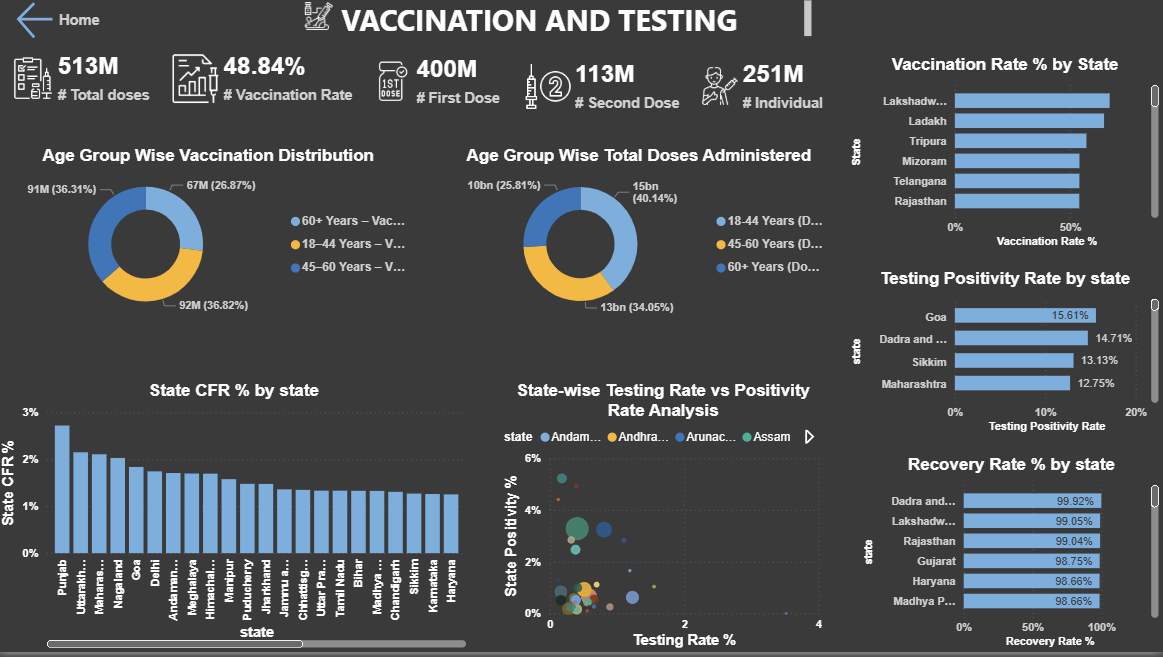

Layout of this report page (visuals, bound fields, positions):
{"tool":"powerbi","page":{"name":"VACCINATION AND TESTING","canvas":[1280,720],"ordinal":1},"visuals":[{"type":"cardVisual","fields":{"Data":["VaccineData.Second Dose"]},"box":[562.6,57.6,208.6,83.7],"z":0},{"type":"cardVisual","fields":{"Data":["VaccineData.Individuals Vaccinated"]},"box":[756.1,64.5,177,70],"z":1000},{"type":"cardVisual","fields":{"Data":["VaccineData.Vaccination Rate %"]},"box":[174.3,43.9,252.5,93.3],"z":2000},{"type":"cardVisual","fields":{"Data":["VaccineData.First Dose"]},"box":[396.6,53.5,181.1,81],"z":3000},{"type":"cardVisual","fields":{"Data":["VaccineData.Total Doses"]},"box":[0,52.1,190.7,76.8],"z":4000},{"type":"textbox","box":[300.5,0,598.3,50.8],"z":5000},{"type":"clusteredBarChart","fields":{"Category":["VaccineData.State"],"Y":["VaccineData.Vaccination Rate %"]},"box":[933.1,64.5,347.2,216.8],"z":6000},{"type":"clusteredBarChart","fields":{"Category":["SummaryData.state"],"Y":["SummaryData.Testing_Positivity_Rate %"]},"box":[933.1,299.1,347.2,185.2],"z":7000},{"type":"clusteredBarChart","fields":{"Category":["SummaryData.state"],"Y":["SummaryData.Recovery Rate %"]},"box":[946.8,503.6,333.4,216.8],"z":8000},{"type":"donutChart","title":"Age Group Wise Vaccination Distribution","fields":{"Y":["Max(VaccineData.60+ Years(Individuals Vaccinated))","Max(VaccineData.18-44 Years(Individuals Vaccinated))","Max(VaccineData.45-60 Years(Individuals Vaccinated))"]},"box":[0,164.7,463.8,194.9],"z":9000},{"type":"scatterChart","title":"State-wise Testing Rate vs Positivity Rate Analysis","fields":{"Series":["SummaryData.state"],"Size":["Sum(SummaryData.confirmed)"],"X":["SummaryData.Testing Rate %"],"Y":["SummaryData.State Positivity %"]},"box":[551.6,422.6,359.5,297.8],"z":10000},{"type":"actionButton","title":"Home","box":[0,1.4,133.1,50.8],"z":11000},{"type":"clusteredColumnChart","fields":{"Category":["SummaryData.state"],"Y":["SummaryData.State CFR %"]},"box":[0,422.6,520.1,297.8],"z":12000},{"type":"donutChart","title":"Age Group Wise Total Doses Administered","fields":{"Y":["Sum(VaccineData.18-44 Years (Doses Administered))","Sum(VaccineData.45-60 Years (Doses Administered))","Sum(VaccineData.60+ Years (Doses Administered))"]},"box":[487.1,164.7,435,194.9],"z":13000},{"type":"image","box":[332.1,0,42.5,43.9],"z":13001}]}

Visuals, with their boxes in screenshot pixels (x1, y1, x2, y2), scaled from the page's 1280x720 canvas onto the 1163x657 screenshot:
cardVisual - VaccineData.Second Dose: [511, 53, 701, 129]
cardVisual - VaccineData.Individuals Vaccinated: [687, 59, 848, 123]
cardVisual - VaccineData.Vaccination Rate %: [158, 40, 388, 125]
cardVisual - VaccineData.First Dose: [360, 49, 525, 123]
cardVisual - VaccineData.Total Doses: [0, 48, 173, 118]
textbox: [273, 0, 817, 46]
clusteredBarChart - VaccineData.State x VaccineData.Vaccination Rate %: [848, 59, 1162, 257]
clusteredBarChart - SummaryData.state x SummaryData.Testing_Positivity_Rate %: [848, 273, 1162, 442]
clusteredBarChart - SummaryData.state x SummaryData.Recovery Rate %: [860, 460, 1162, 656]
"Age Group Wise Vaccination Distribution" donutChart: [0, 150, 421, 328]
"State-wise Testing Rate vs Positivity Rate Analysis" scatterChart: [501, 386, 828, 656]
"Home" actionButton: [0, 1, 121, 48]
clusteredColumnChart - SummaryData.state x SummaryData.State CFR %: [0, 386, 473, 656]
"Age Group Wise Total Doses Administered" donutChart: [443, 150, 838, 328]
image: [302, 0, 340, 40]
